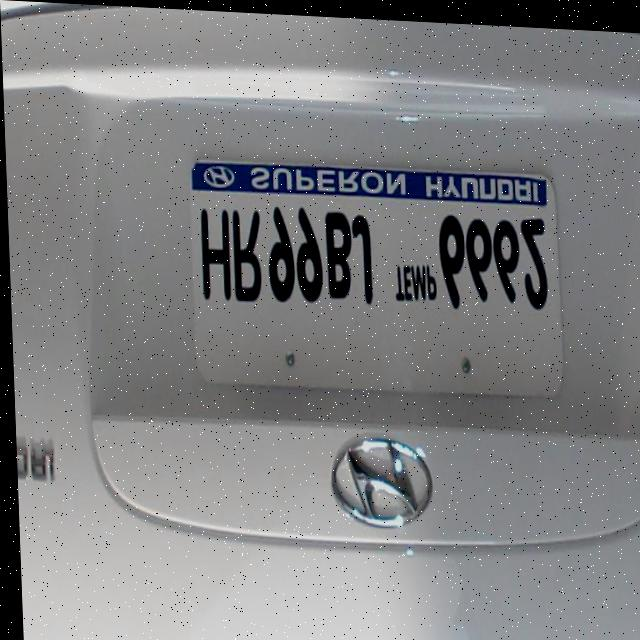plate: (183, 155, 561, 398)
